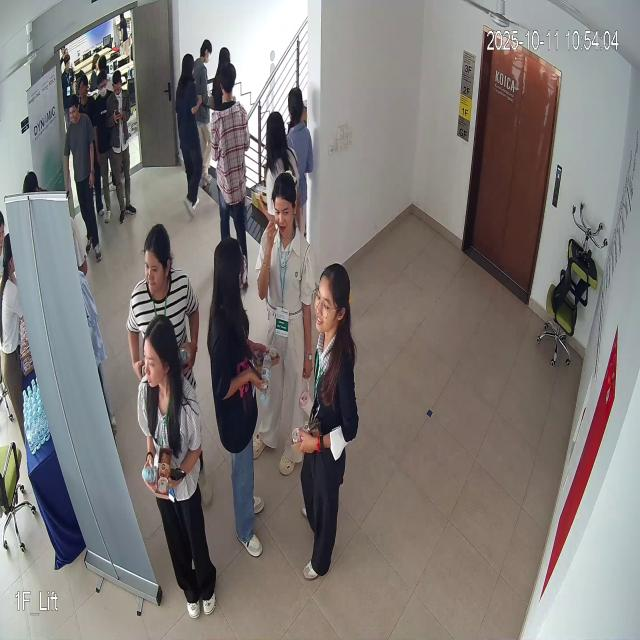face: (136, 311, 182, 395), (312, 258, 354, 343), (143, 216, 173, 296), (270, 169, 300, 246)
